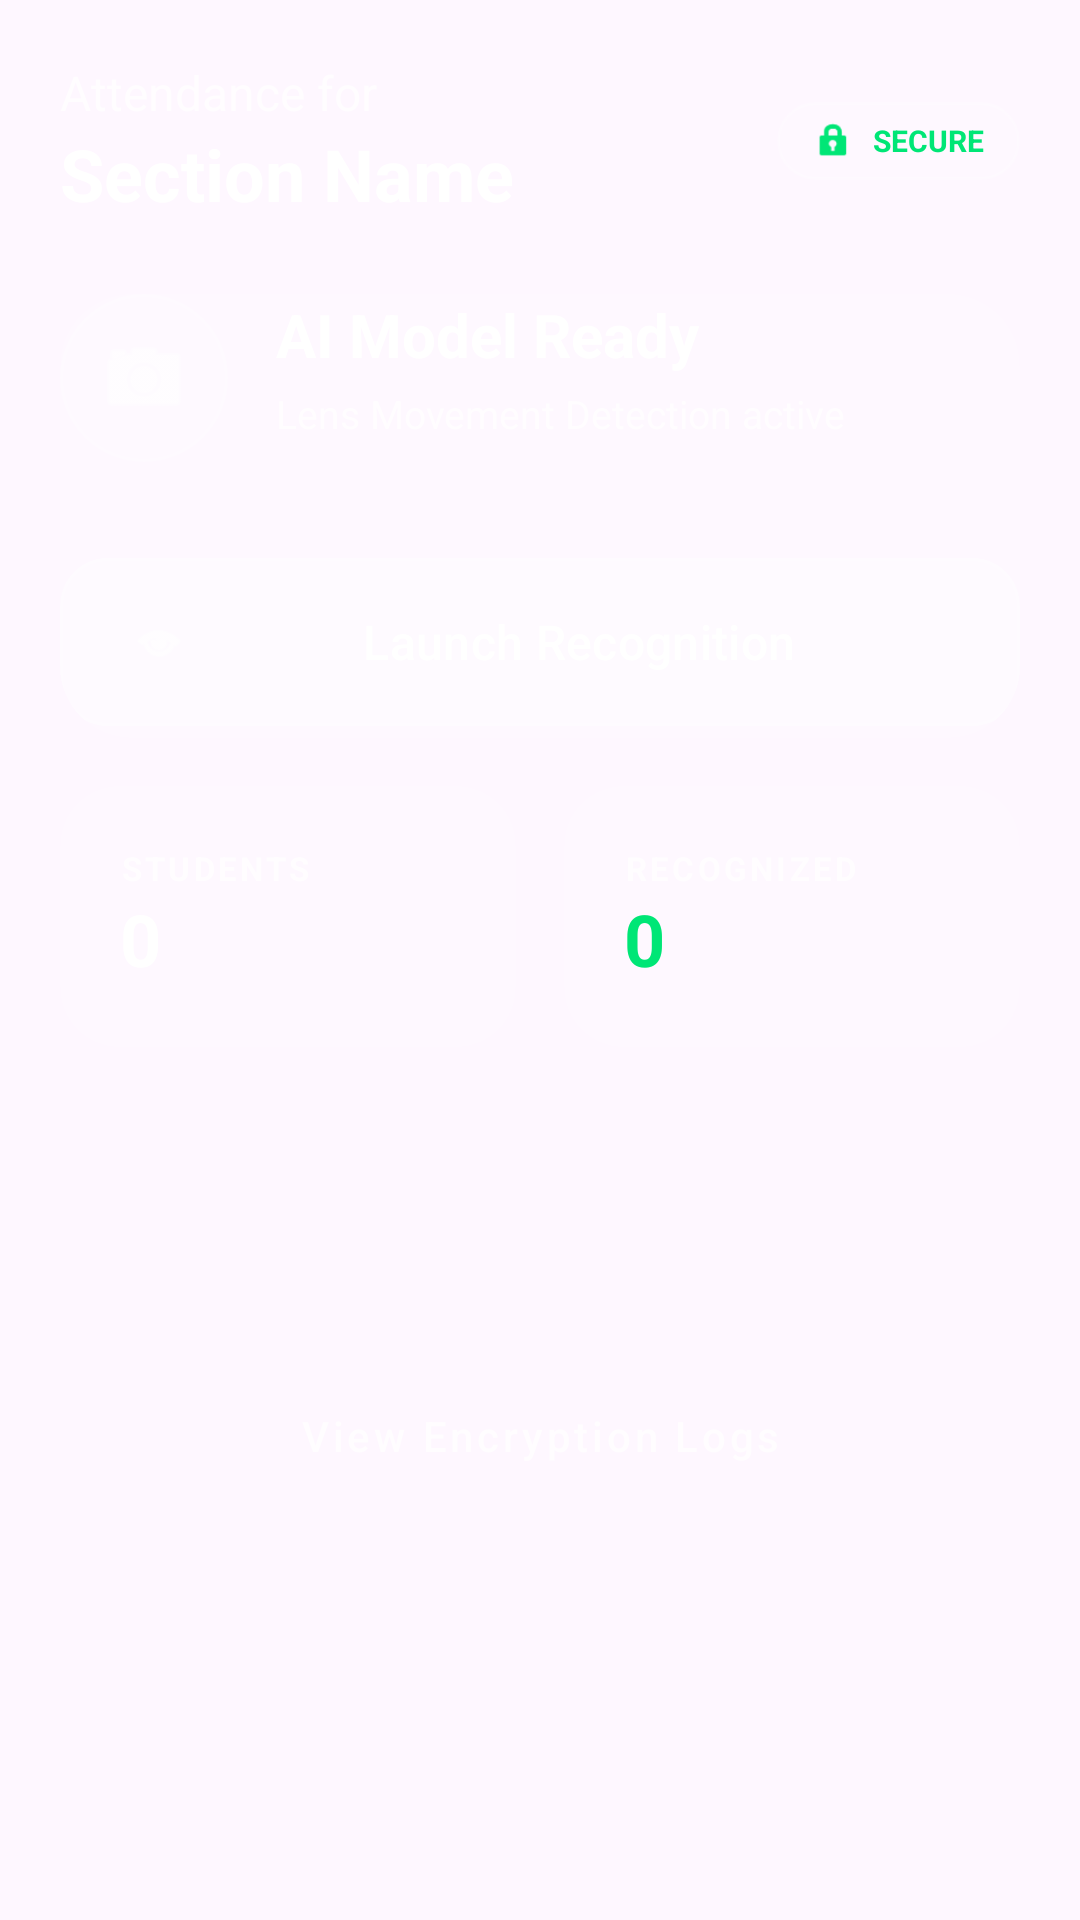

Named icons in this screenshot (1080×1920) and their centers, point (x, y):
lock idle: point (833, 139)
